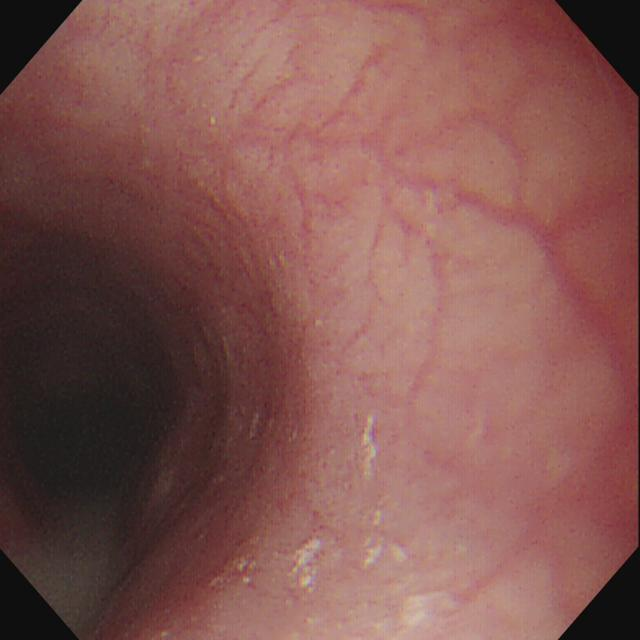E: (42, 392, 136, 497)
J: (364, 509, 410, 568), (293, 537, 323, 595), (212, 556, 259, 585), (362, 413, 378, 481)
